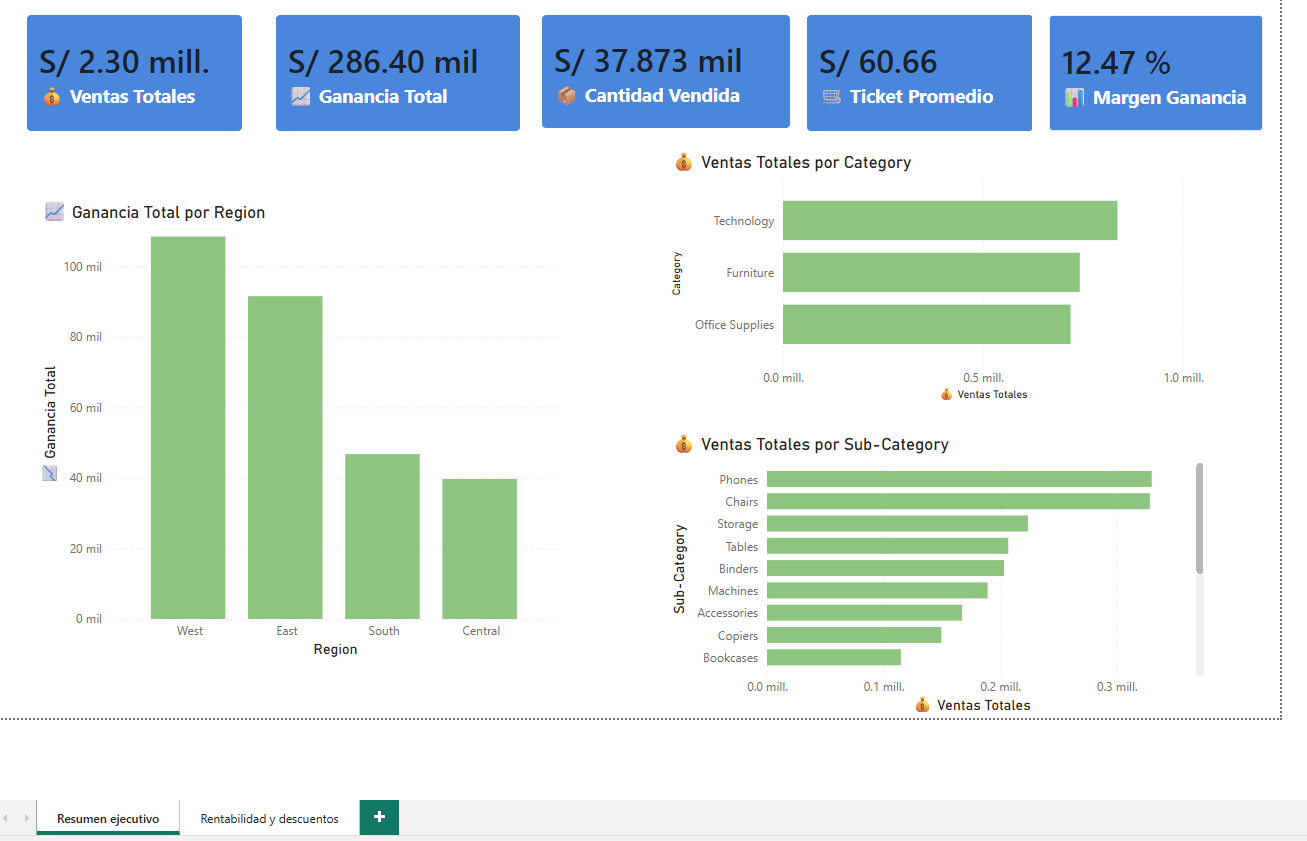

The page's visual inventory and layout, read from the dashboard file:
{"tool":"powerbi","page":{"name":"Resumen ejecutivo","canvas":[1280,720],"ordinal":0},"visuals":[{"type":"cardVisual","title":"Ventas Totales","fields":{"Data":["SampleSuperstore.Ventas Totales"]},"box":[10,0,249,150],"z":0},{"type":"cardVisual","fields":{"Data":["SampleSuperstore.Ganancia Total"]},"box":[259,0,278,150],"z":1000},{"type":"cardVisual","fields":{"Data":["SampleSuperstore.Cantidad Vendida"]},"box":[525,0,282,147],"z":2000},{"type":"cardVisual","fields":{"Data":["SampleSuperstore.Ticket Promedio"]},"box":[790,0,260,150],"z":3000},{"type":"columnChart","fields":{"Category":["SampleSuperstore.Region"],"Y":["SampleSuperstore.Ganancia Total"]},"box":[37,200,527,464],"z":4000},{"type":"barChart","fields":{"Category":["SampleSuperstore.Category"],"Y":["SampleSuperstore.Ventas Totales"]},"box":[666,150,543,257],"z":5000},{"type":"clusteredBarChart","fields":{"Category":["SampleSuperstore.Sub-Category"],"Y":["SampleSuperstore.Ventas Totales"]},"box":[666,432,543,288],"z":6000},{"type":"cardVisual","fields":{"Data":["SampleSuperstore.Margen Ganancia %"]},"box":[1032,0,248,150],"z":6001}]}

Visuals, with their boxes on the page's 1280x720 design canvas (x1, y1, x2, y2). These are canvas units, not pixel positions in the 1307x841 screenshot, which may show the page scaled, cropped or inside an application window:
"Ventas Totales" cardVisual: [10, 0, 259, 150]
cardVisual - SampleSuperstore.Ganancia Total: [259, 0, 537, 150]
cardVisual - SampleSuperstore.Cantidad Vendida: [525, 0, 807, 147]
cardVisual - SampleSuperstore.Ticket Promedio: [790, 0, 1050, 150]
columnChart - SampleSuperstore.Region x SampleSuperstore.Ganancia Total: [37, 200, 564, 664]
barChart - SampleSuperstore.Category x SampleSuperstore.Ventas Totales: [666, 150, 1209, 407]
clusteredBarChart - SampleSuperstore.Sub-Category x SampleSuperstore.Ventas Totales: [666, 432, 1209, 720]
cardVisual - SampleSuperstore.Margen Ganancia %: [1032, 0, 1280, 150]
